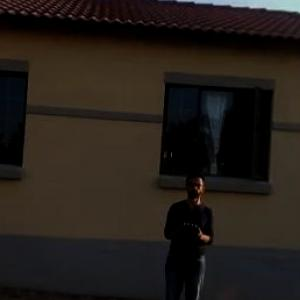follow: (158, 164, 218, 299)
